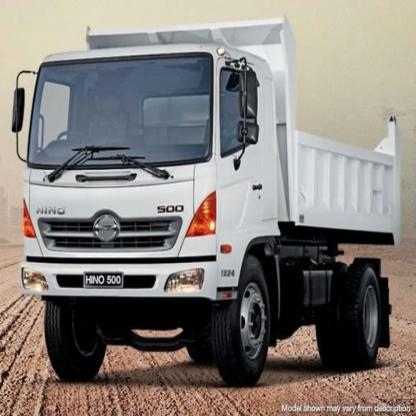dump_truck: (26, 16, 395, 401)
